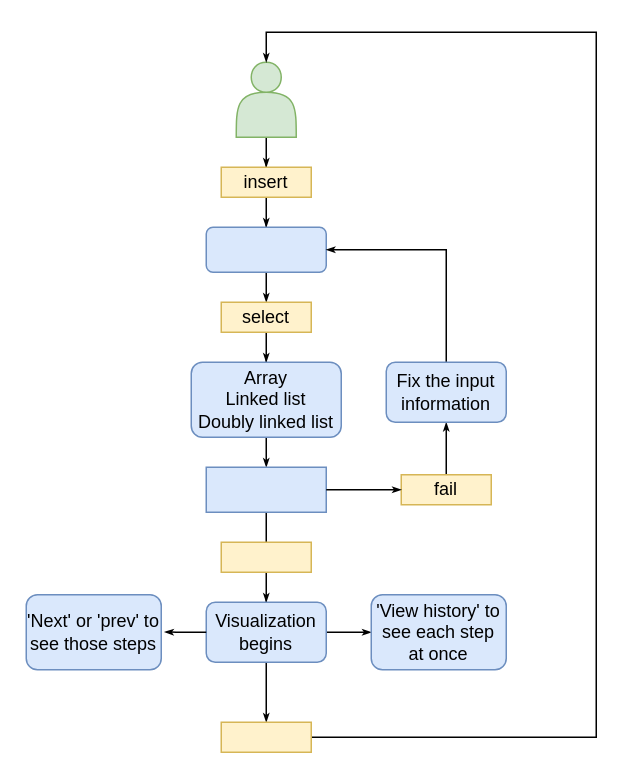
This 630x779 diagram has some shape labels left out. Here are the shapes that lost their labels. From the top down, the centre of each, then its label:
point 265,249: input elements
point 265,489: Run Quicksort
point 265,556: success
point 265,736: end
